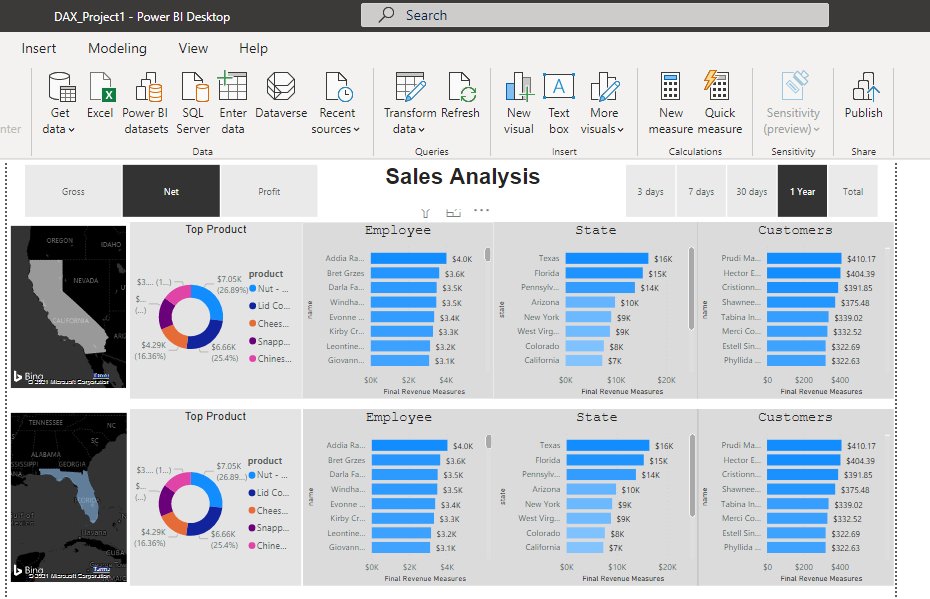

Layout of this report page (visuals, bound fields, positions):
{"tool":"powerbi","page":{"name":"Sales Analysis","canvas":[1280,720],"ordinal":0},"visuals":[{"type":"slicer","fields":{"Values":["TimeFilter Table.TimeFilter"]},"box":[866.8,0,413.2,89],"z":1000},{"type":"slicer","fields":{"Values":["Filter Revenue Table.Filter Revenue"]},"box":[0,0,472,89],"z":2000},{"type":"clusteredBarChart","title":"Customers","fields":{"Category":["customer.name"],"Y":["Key Measures Table.Final Revenue Measures"]},"box":[996.1,89,283.9,255.3],"z":2001},{"type":"clusteredBarChart","title":"Employee","fields":{"Y":["Key Measures Table.Final Revenue Measures"],"Category":["employee.name"]},"box":[425,89,277.2,255.3],"z":2002},{"type":"clusteredBarChart","title":"State","fields":{"Y":["Key Measures Table.Final Revenue Measures"],"Category":["location.state"]},"box":[702.2,89,294,255.3],"z":2003},{"type":"donutChart","title":"Top Product","fields":{"Category":["products.product"],"Y":["Key Measures Table.Final Revenue Measures"]},"box":[177.5,89.5,248.2,255.4],"z":2004},{"type":"filledMap","fields":{"Category":["location.state"]},"box":[0,89.5,177.5,245.3],"z":2005},{"type":"filledMap","fields":{"Category":["location.state"]},"box":[0,359.5,178.1,255.3],"z":2006},{"type":"donutChart","title":"Top Product","fields":{"Category":["products.product"],"Y":["Key Measures Table.Final Revenue Measures"]},"box":[178.1,359.5,246.9,255.3],"z":2007},{"type":"clusteredBarChart","title":"Employee","fields":{"Y":["Key Measures Table.Final Revenue Measures"],"Category":["employee.name"]},"box":[426.7,359.5,277.2,255.3],"z":2008},{"type":"clusteredBarChart","title":"State","fields":{"Y":["Key Measures Table.Final Revenue Measures"],"Category":["location.state"]},"box":[703.8,359.5,294,255.3],"z":2009},{"type":"clusteredBarChart","title":"Customers","fields":{"Category":["customer.name"],"Y":["Key Measures Table.Final Revenue Measures"]},"box":[996.1,359.5,283.9,255.3],"z":2010},{"type":"textbox","box":[507.9,0,300.1,70.7],"z":2011}]}

Visuals, with their boxes on the page's 1280x720 design canvas (x1, y1, x2, y2). These are canvas units, not pixel positions in the 930x599 screenshot, which may show the page scaled, cropped or inside an application window:
slicer - TimeFilter Table.TimeFilter: region(867, 0, 1280, 89)
slicer - Filter Revenue Table.Filter Revenue: region(0, 0, 472, 89)
"Customers" clusteredBarChart: region(996, 89, 1280, 344)
"Employee" clusteredBarChart: region(425, 89, 702, 344)
"State" clusteredBarChart: region(702, 89, 996, 344)
"Top Product" donutChart: region(178, 90, 426, 345)
filledMap - location.state: region(0, 90, 178, 335)
filledMap - location.state: region(0, 360, 178, 615)
"Top Product" donutChart: region(178, 360, 425, 615)
"Employee" clusteredBarChart: region(427, 360, 704, 615)
"State" clusteredBarChart: region(704, 360, 998, 615)
"Customers" clusteredBarChart: region(996, 360, 1280, 615)
textbox: region(508, 0, 808, 71)
